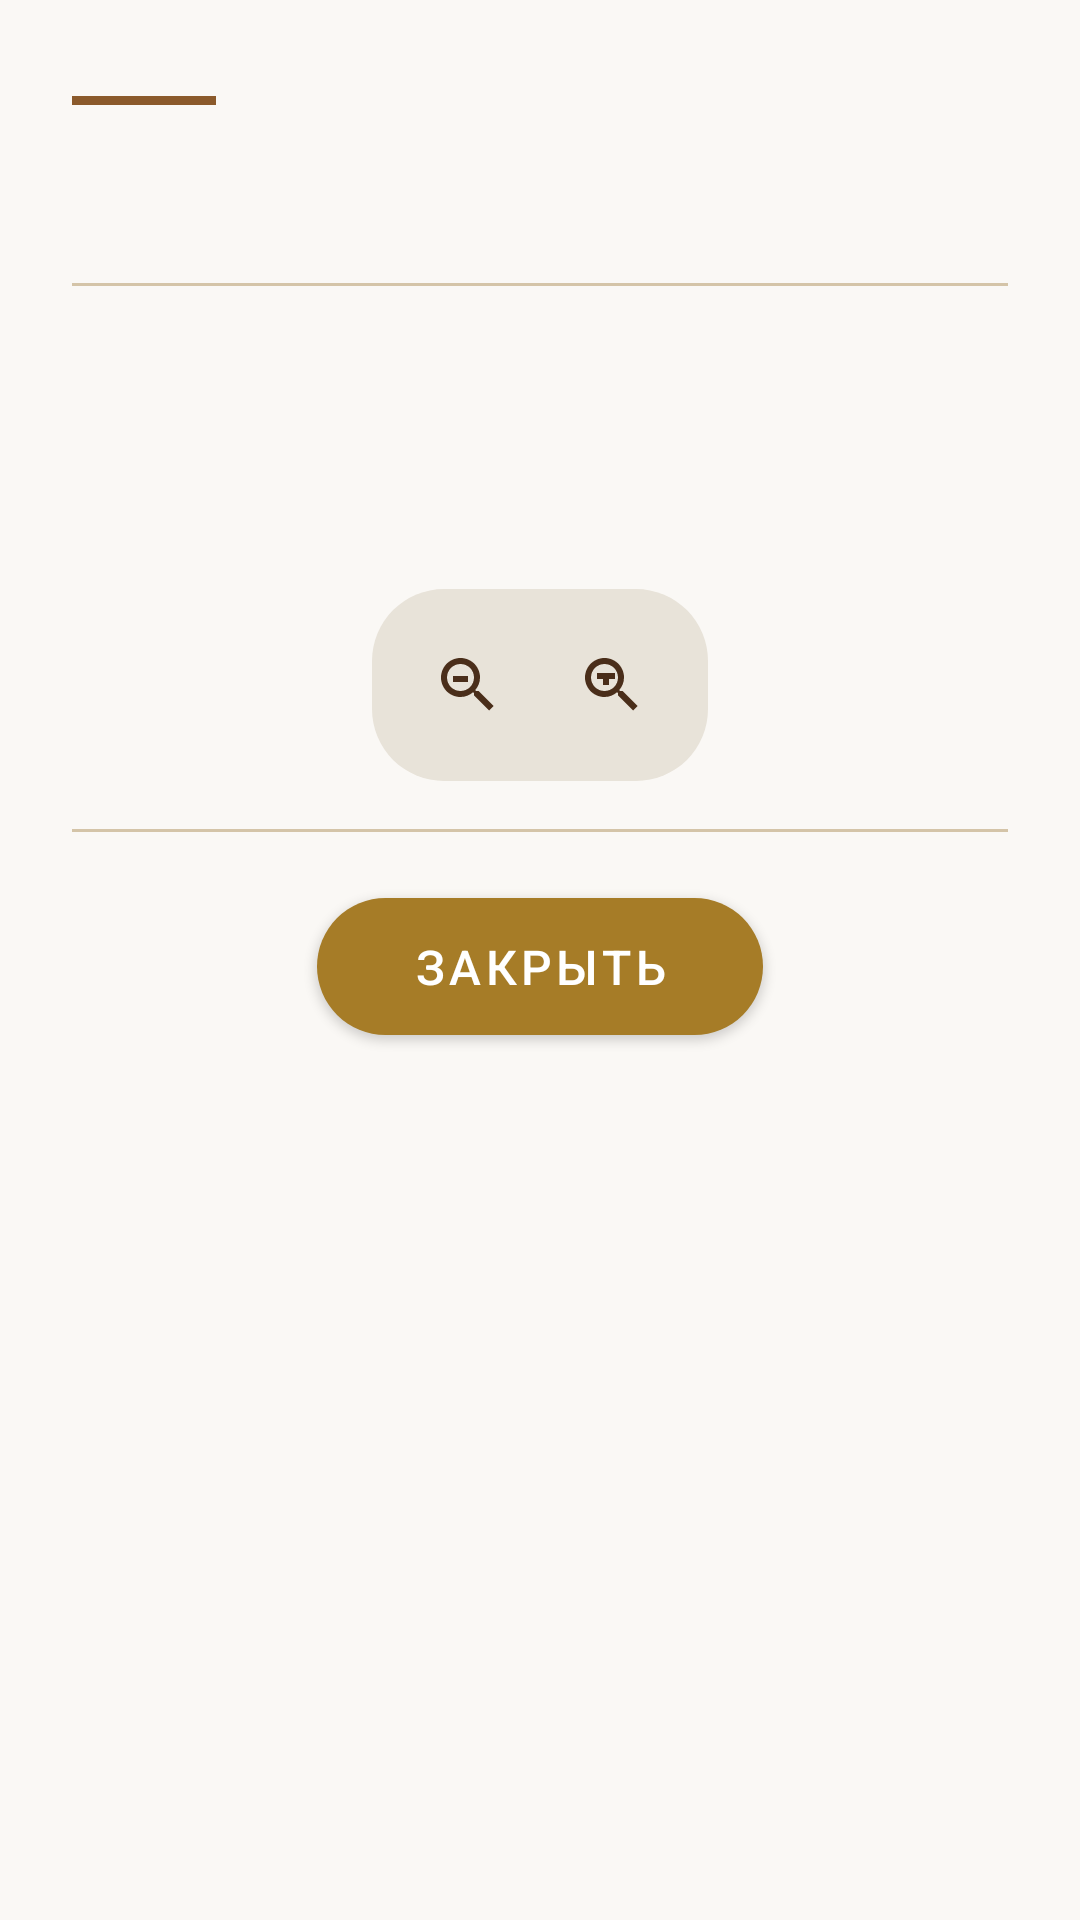

Icons on this 1080w x 1920h Android screen, each with its box as [x1,y1,x2,y2]:
Увеличить шрифт: [585,658,638,711]
Уменьшить шрифт: [441,658,494,711]
